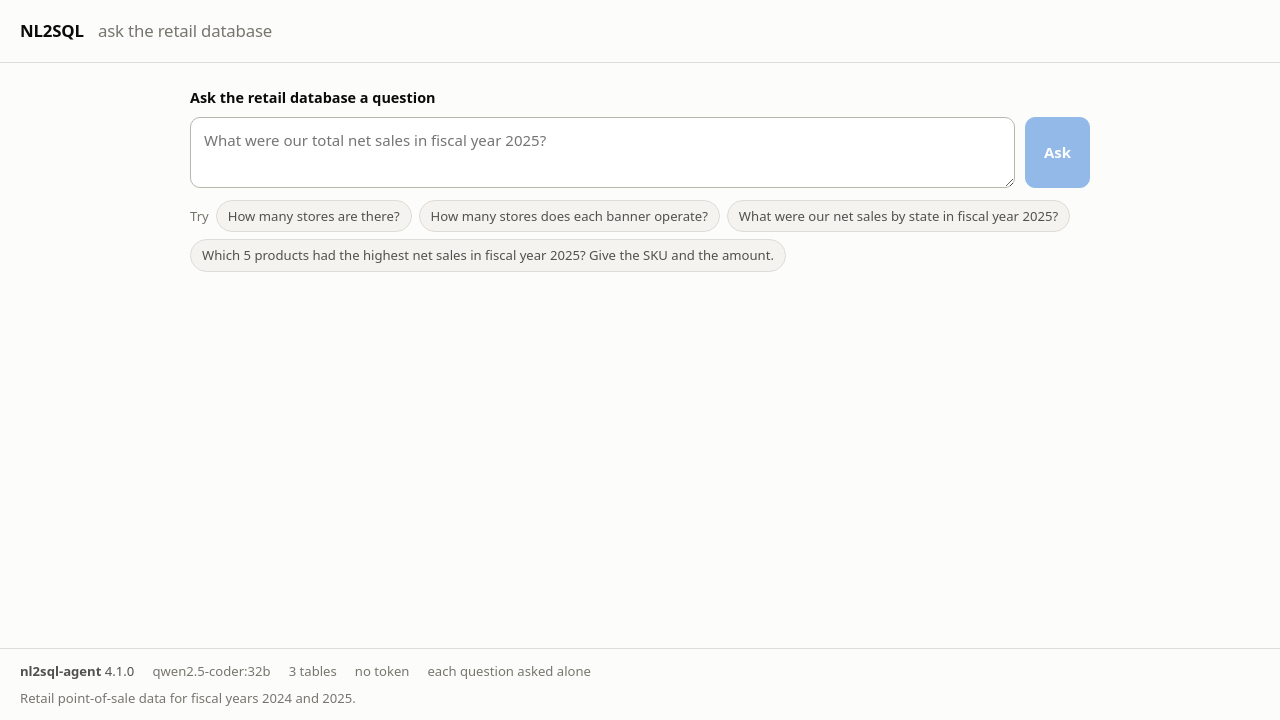
Test case: App › reports a question that could not be sent at all
Click the button "How many stores are there?": (314, 216) top-left (216, 200), bottom-right (412, 232)
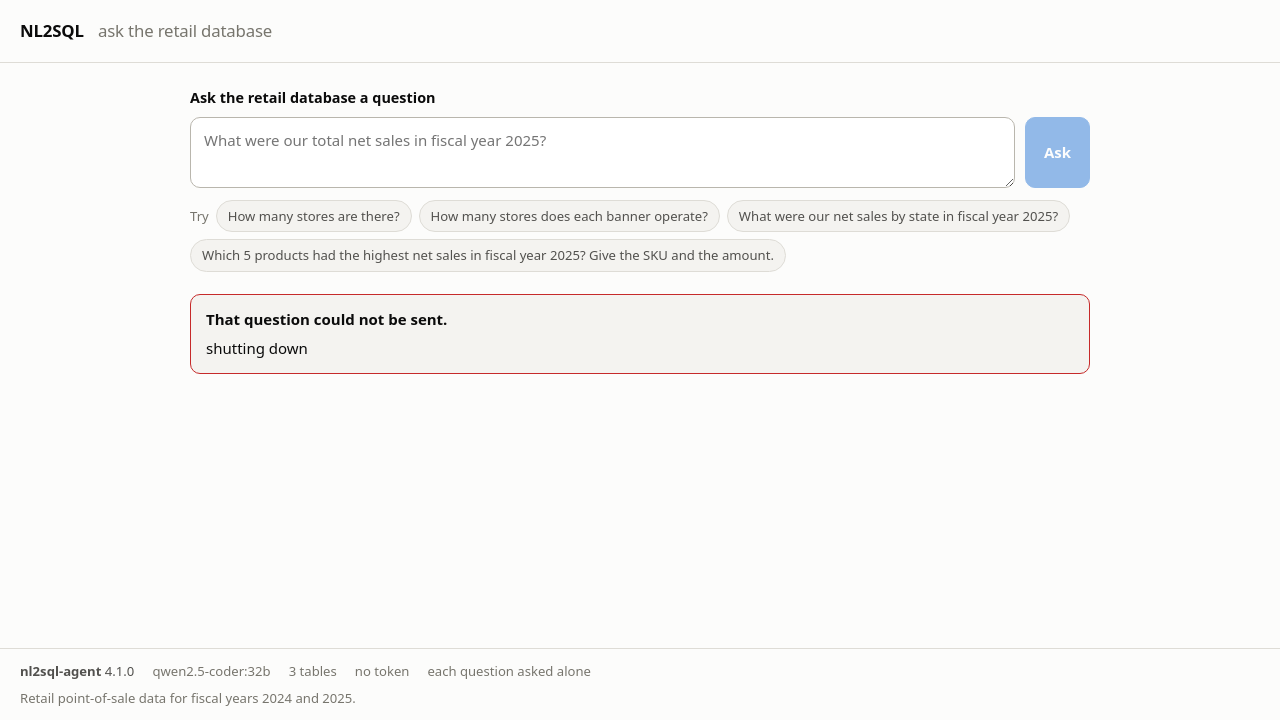
Expected: the message shows "That question could not be sent.", top-left (206, 308), bottom-right (447, 328)
Expected: the message shows "shutting down", top-left (206, 338), bottom-right (308, 358)
